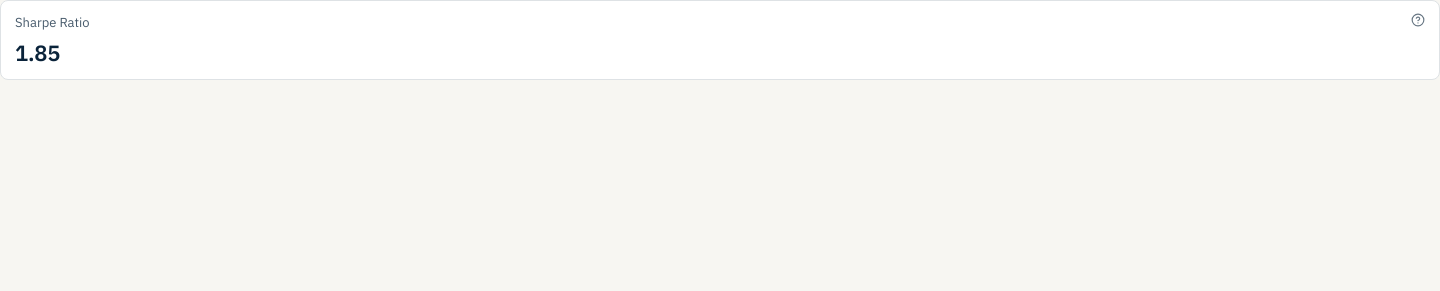
MetricCard Component › reveals definition and formula tooltip on help click
Expected: the text "Excess return over risk-free rate" is not shown
Note: Click to toggle tooltip
Click the button named "Definition of Sharpe Ratio": (1418, 20) 1407,9 -> 1429,31
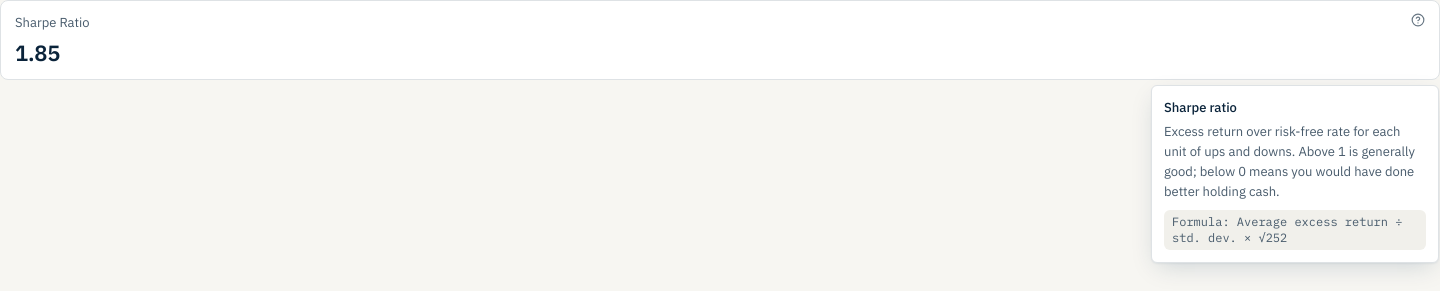
Expected: the text "Formula: Average excess return ÷ std. dev. × √252" is shown, 1164,210 -> 1426,250
Expected: the text "Excess return over risk-free rate" is shown, 1164,123 -> 1415,200
